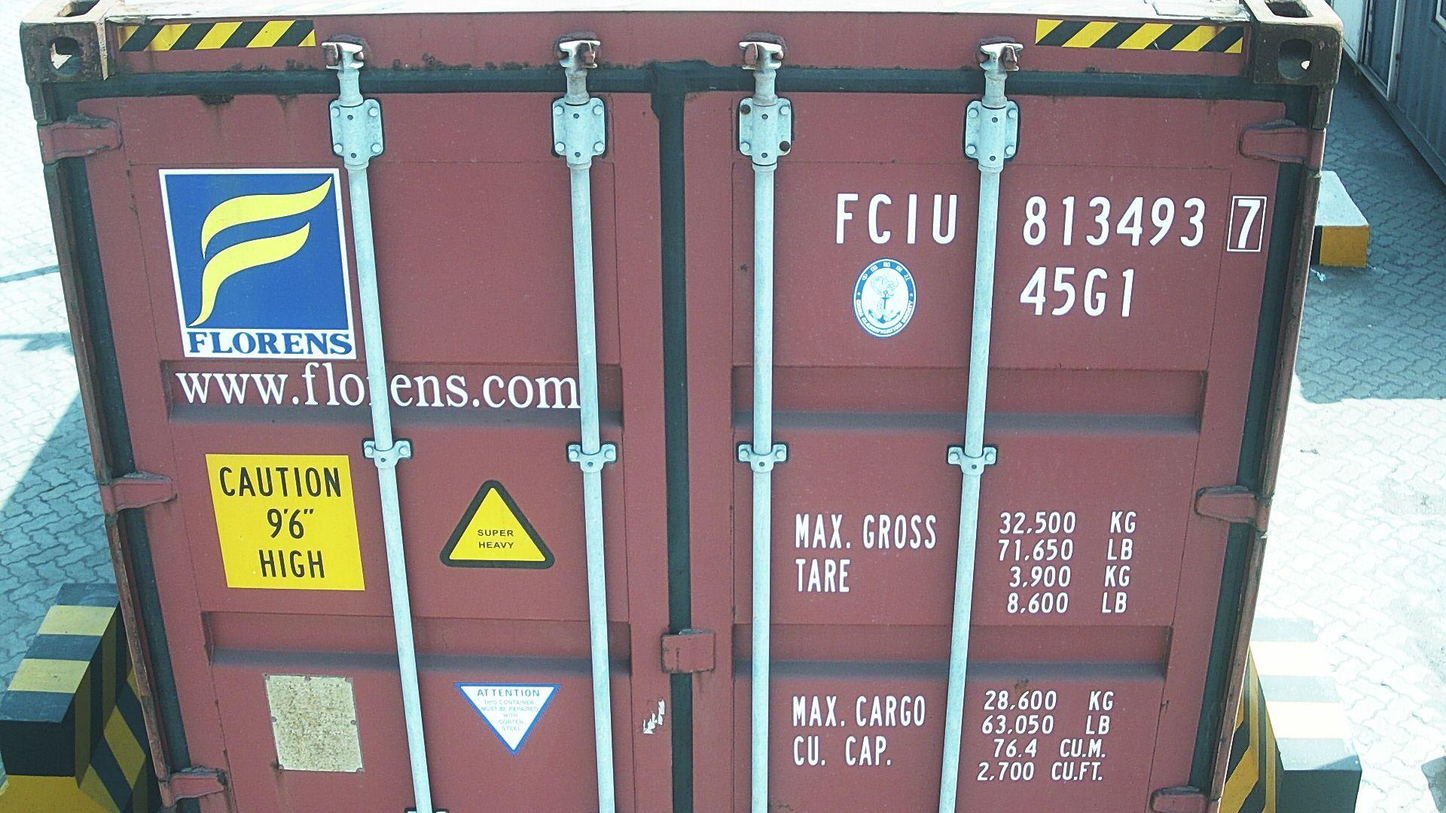container-numbers: (831, 188, 1274, 255), (1015, 262, 1141, 321)
